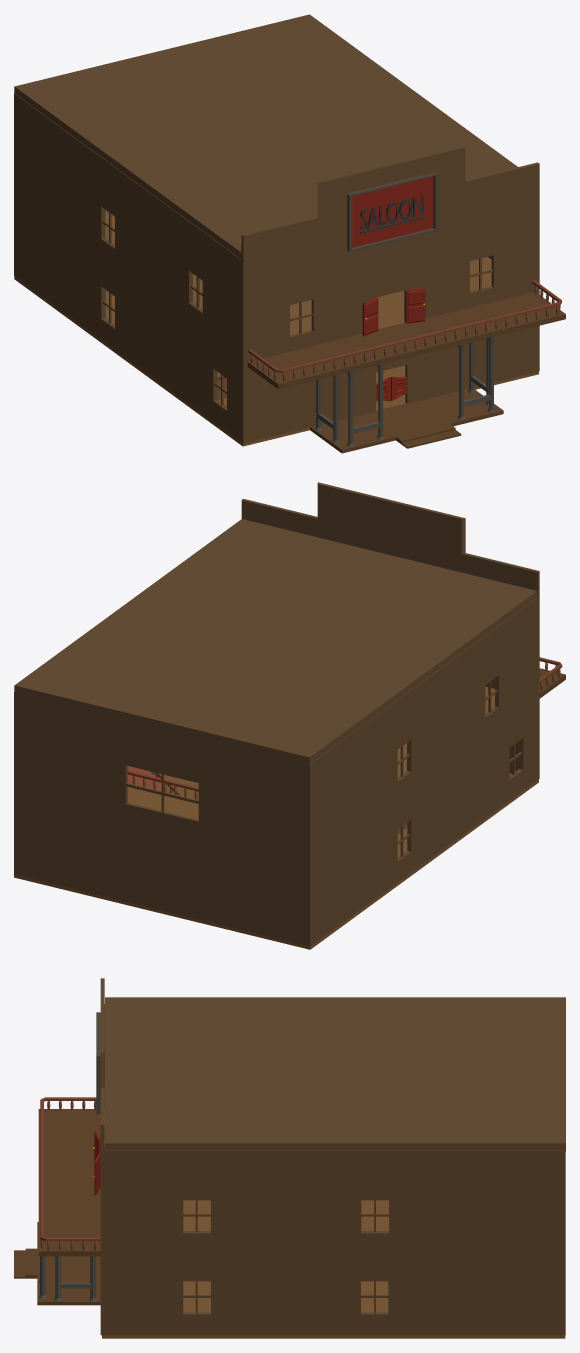
Rendered from SaloonMap.fbx.
3 renders of one model, top to bottom at view 1: azimuth 30°, elevation 25°; view 2: azimuth 150°, elevation 25°; view 3: azimuth 270°, elevation 25°, orthographic.
Parts seen in each view (by area): view 1: Building, Text; view 2: Building; view 3: Building.
Part boxes in pixels (left/top/right/bottom): Building: left=14, top=14, right=565, bottom=453; Text: left=360, top=195, right=424, bottom=233; Building: left=14, top=482, right=565, bottom=949; Building: left=14, top=978, right=565, bottom=1338.
Size of the model in its own units: 84.27 by 67 by 134.
